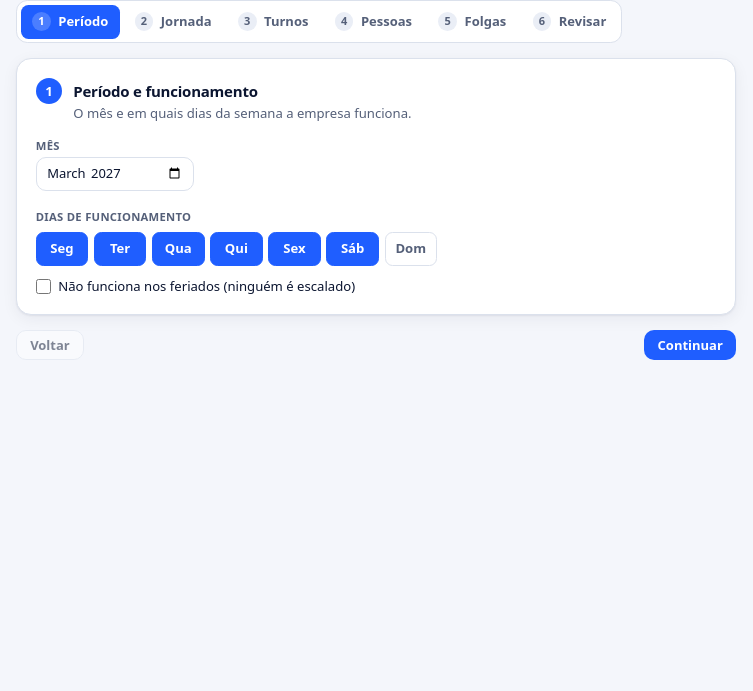
Test case: Gerar escala (tela) › mostra as férias do mês ao lado de cada pessoa
The image size is (753, 691).
Click the button "5 Folgas": (472, 22) left=427, top=5, right=518, bottom=39
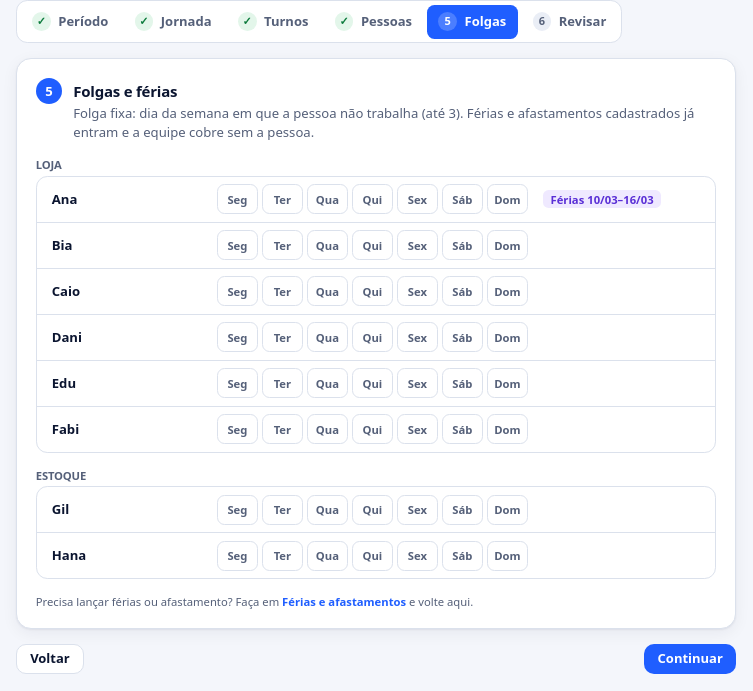
Expected: the text "01/05–10/05" is not shown
Now the text "Férias 10/03–16/03" is shown, box left=543, top=190, right=661, bottom=208
Click the button "✓ Período": (70, 22) left=21, top=5, right=120, bottom=39
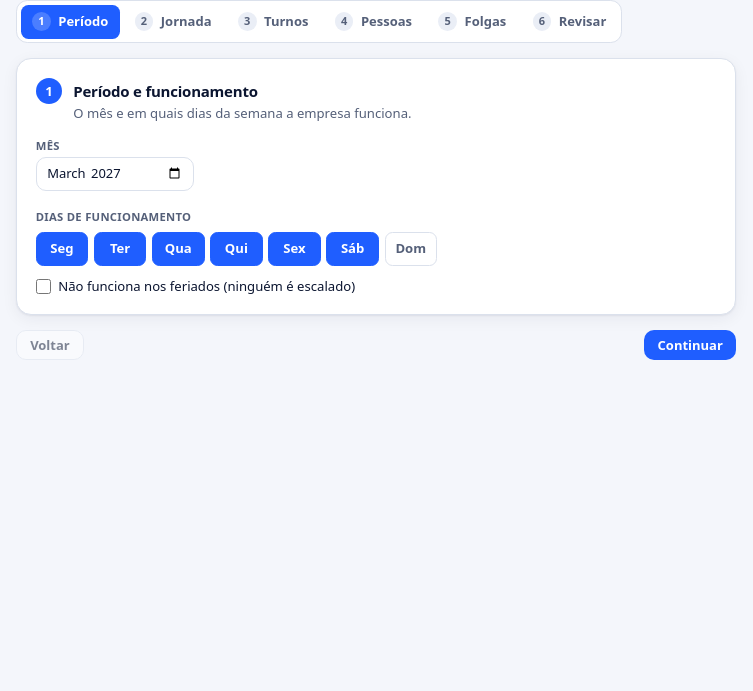
Replace the text in the field labelled "Mês" with "2027-05": (115, 174) left=36, top=157, right=194, bottom=191
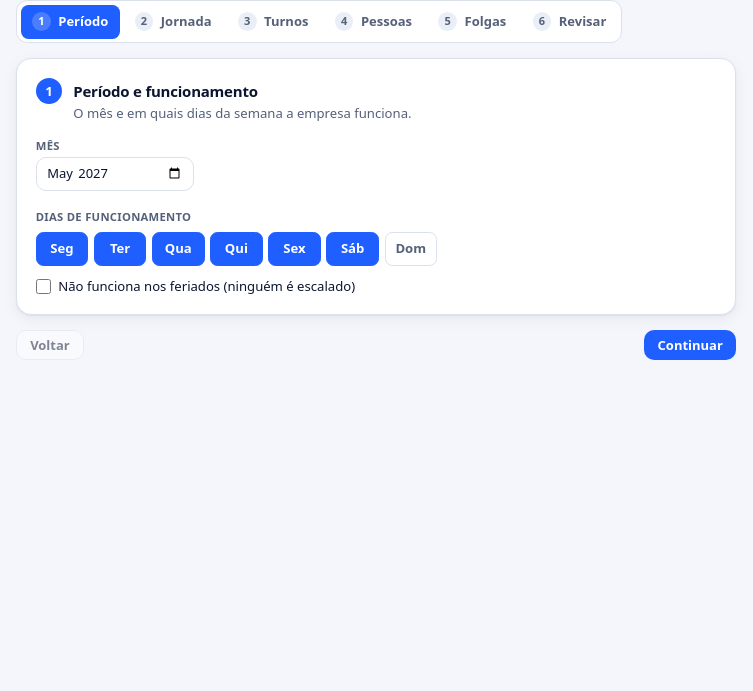
Click the button "5 Folgas": (472, 22) left=427, top=5, right=518, bottom=39
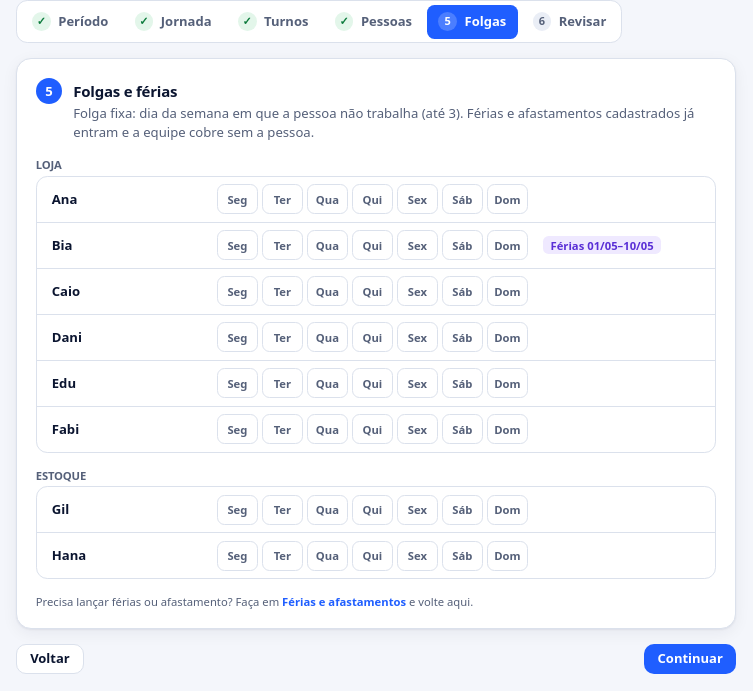
Now the text "Férias 01/05–10/05" is shown, box left=543, top=236, right=661, bottom=254
